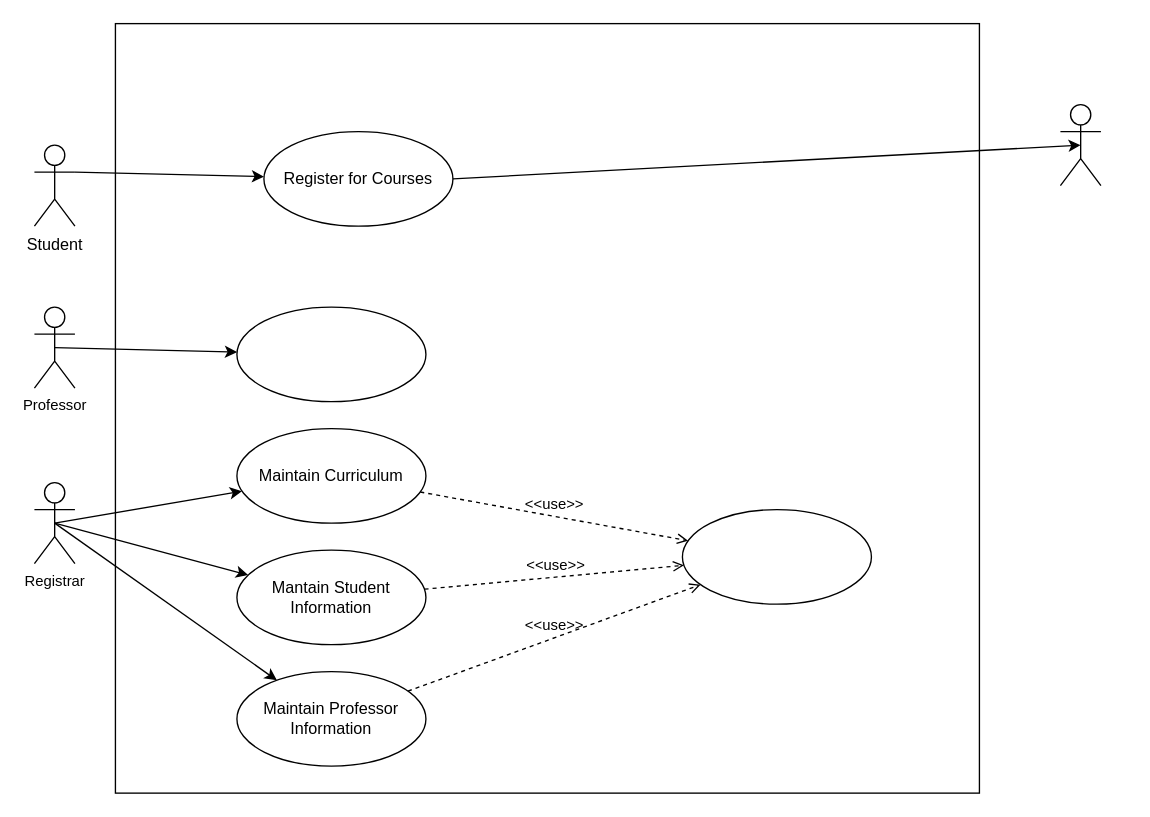
The diagram is 1150 pixels wide and 817 high, and some of its shapes have lost their labels. The centre of each missing label's shape, as x and y in pixels:
"Billing System" belongs at (x=1080, y=144).
"Registrar Validation" belongs at (x=776, y=556).
"Select Courses to Teach" belongs at (x=331, y=354).
